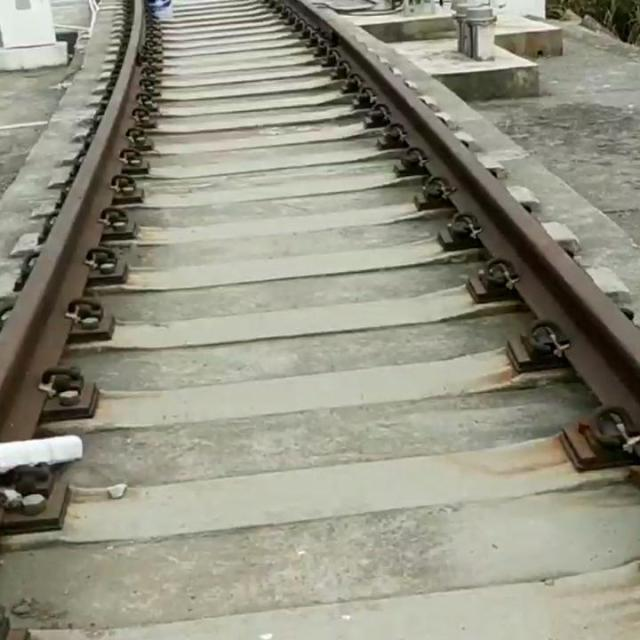rail: (279, 1, 640, 431), (1, 1, 145, 443)
